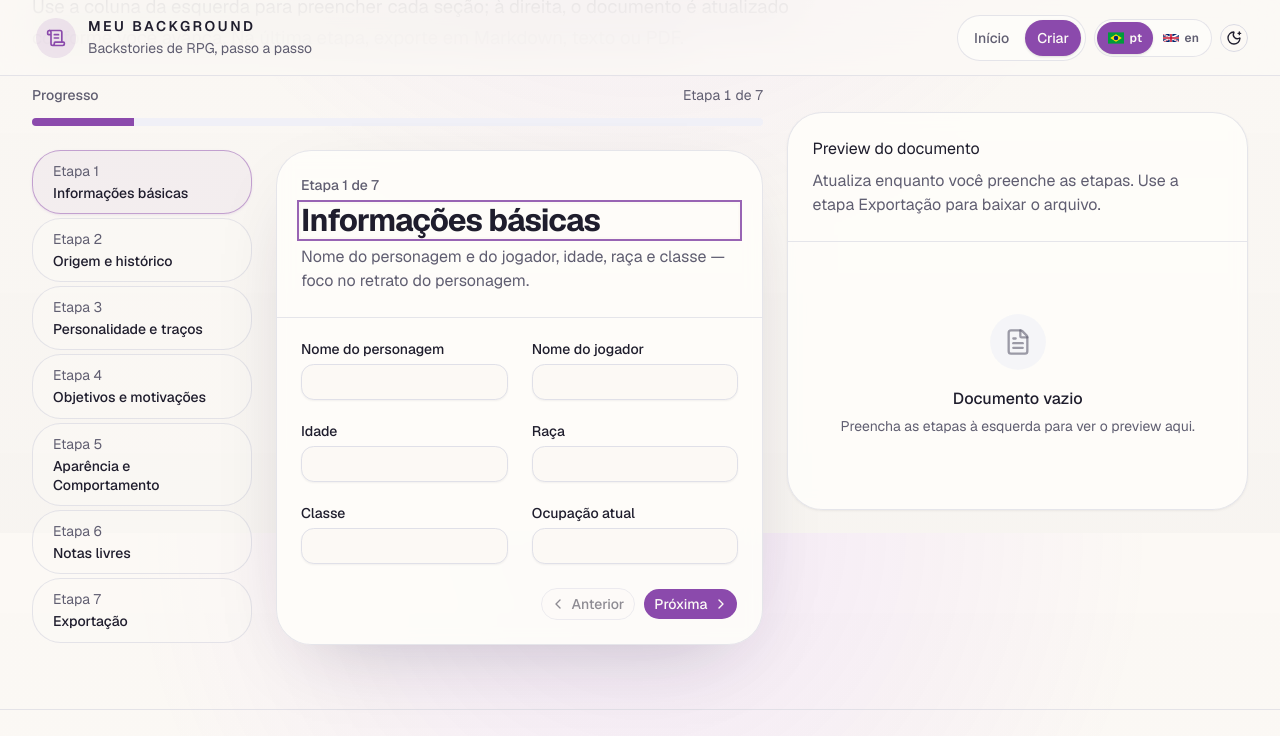
Test case: Character form wizard › should not advance from basic step without character name
(page scrolled)
expect the form is shown: met, box [32, 85, 764, 646]
expect the heading "Informações básicas" is shown: met, box [301, 204, 738, 237]
Click the button with test id "wizard-next" at point(691, 604), box [643, 588, 738, 620]
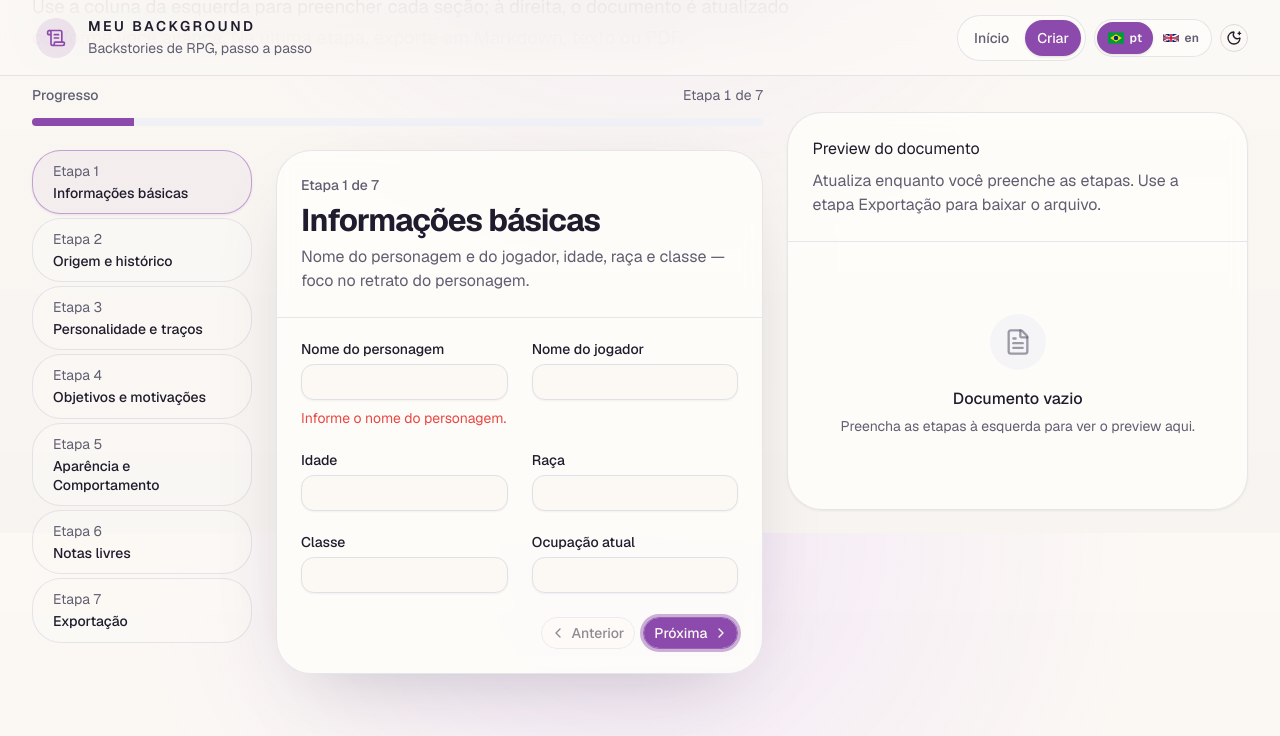
expect the heading "Informações básicas" is shown: met, box [301, 200, 600, 240]
expect the message "Informe o nome do personagem." is shown: met, box [301, 408, 508, 429]
expect the text "Informe o nome do personagem" is shown: met, box [301, 409, 506, 427]
